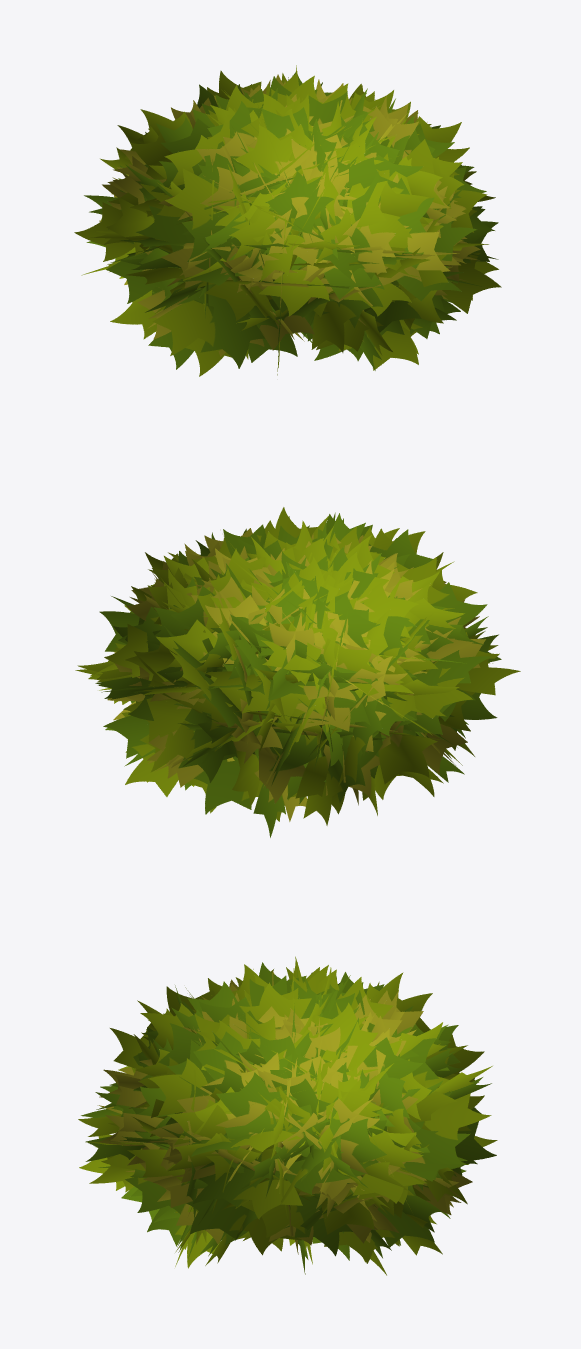
Rendered from bush.fbx.
3 views of the same model, one above another, from view 1: azimuth 30°, elevation 25°; view 2: azimuth 150°, elevation 25°; view 3: azimuth 270°, elevation 25° (orthographic).
Parts seen in each view (by area): view 1: Bush; view 2: Bush; view 3: Bush.
Part boxes in pixels (left/top/right/bottom): Bush: left=74, top=65, right=501, bottom=376; Bush: left=75, top=507, right=520, bottom=837; Bush: left=78, top=956, right=497, bottom=1275.
Size of the model in its own units: 0.6962 by 0.4858 by 0.7078.
Materials: 1 (1 with a texture image).
